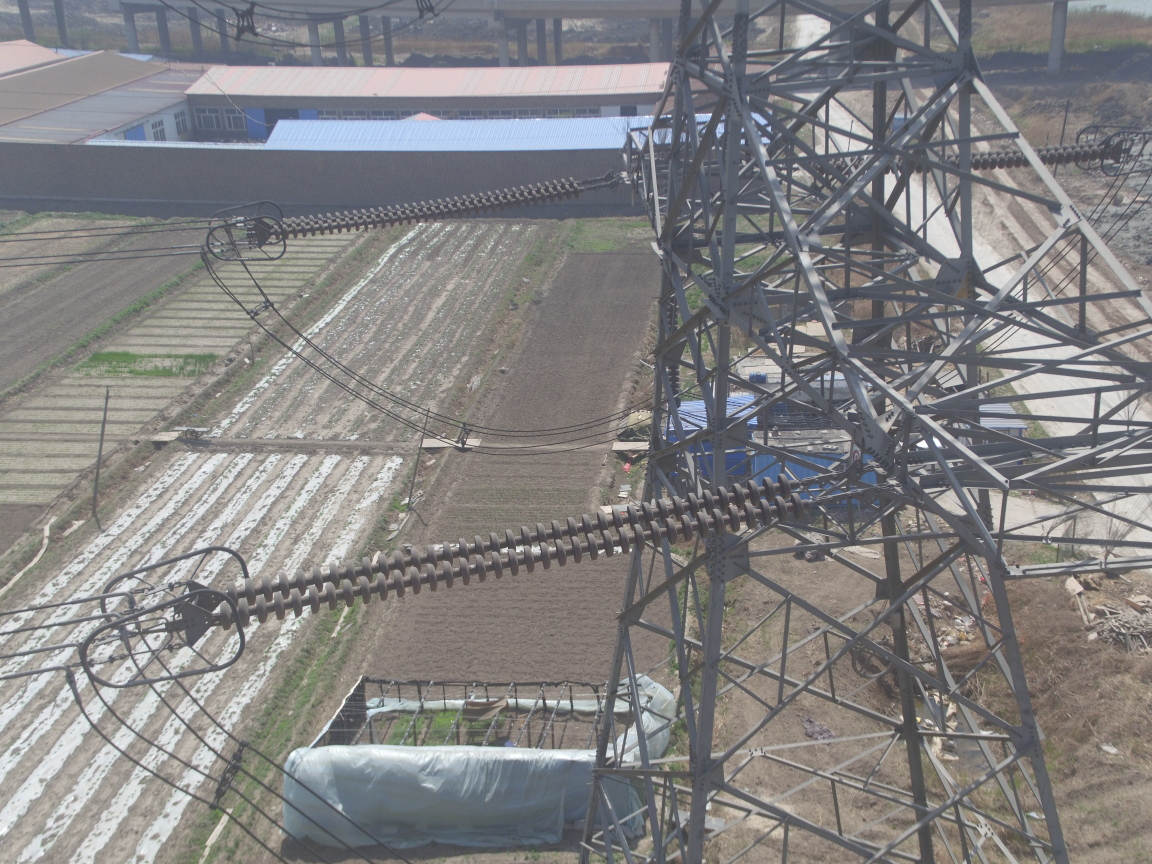insulator: (200, 469, 834, 634), (263, 174, 594, 243)
